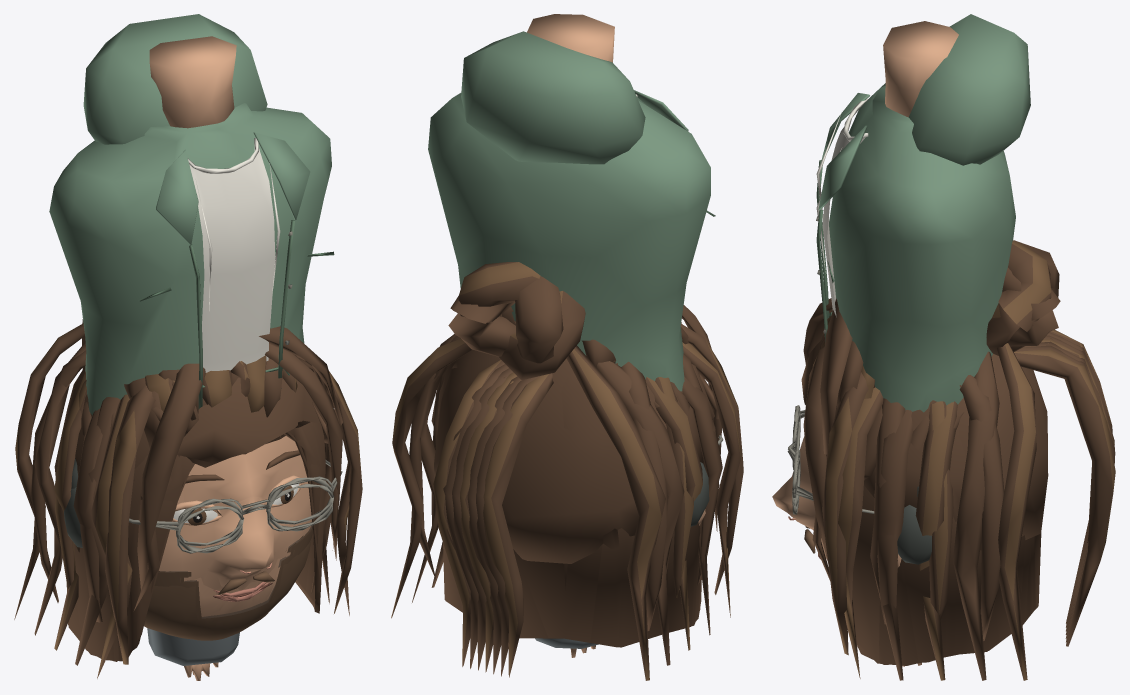
Rendered from characters-medium.glb.
3 renders of one model, left to right at view 1: azimuth 30°, elevation 25°; view 2: azimuth 150°, elevation 25°; view 3: azimuth 270°, elevation 25°, orthographic.
Parts seen in each view (by area): view 1: torso, hair_bob, hair_wavy, tee, face_round, hoodie_details, hair_curly, neck, hair_fluffy, beard_short_angular, collar, thigh (+12 smaller); view 2: torso, hair_wavy, hair_ponytail, hair_curly, hoodie_details, hair_bob, hair_bun, neck, hair_fluffy, hair_side-part, headphones; view 3: torso, hair_wavy, hair_bob, hoodie_details, hair_ponytail, hair_curly, hair_bun, neck, hair_side-part, collar, face_round, headphones (+4 smaller).
Part boxes in pixels (box(x1,y1,x2,y2)): torso: box(49, 103, 331, 415); hair_bob: box(31, 343, 362, 664); hair_wavy: box(14, 323, 350, 678); tee: box(187, 138, 275, 372); face_round: box(159, 437, 311, 613); hoodie_details: box(83, 14, 289, 387); hair_curly: box(54, 361, 327, 481); neck: box(149, 36, 236, 128); hair_fluffy: box(82, 355, 326, 467); beard_short_angular: box(144, 525, 312, 640); collar: box(156, 132, 310, 244); thigh: box(147, 628, 239, 665); torso: box(428, 93, 710, 391); hair_wavy: box(391, 335, 741, 680); hair_ponytail: box(433, 360, 553, 677); hair_curly: box(434, 341, 714, 563); hoodie_details: box(461, 31, 645, 164); hair_bob: box(409, 305, 743, 647); hair_bun: box(448, 262, 718, 531); neck: box(527, 14, 614, 62); hair_fluffy: box(437, 322, 689, 549); hair_side-part: box(582, 339, 615, 367); headphones: box(690, 462, 709, 526); torso: box(829, 83, 1015, 412); hair_wavy: box(838, 343, 1036, 680); hair_bob: box(803, 298, 1041, 664); hoodie_details: box(816, 14, 1030, 316); hair_ponytail: box(1014, 329, 1115, 646); hair_curly: box(801, 337, 1048, 550); hair_bun: box(812, 240, 1060, 580); neck: box(883, 21, 958, 117); hair_side-part: box(820, 298, 874, 454); collar: box(818, 93, 869, 210); face_round: box(772, 440, 826, 558); headphones: box(897, 486, 931, 564).
Size of the model in its own units: 0.5271 by 1.17 by 0.583.
